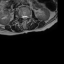CCS_stenosis: (24, 13, 25, 21)
LFS_normal: (27, 13, 29, 20)
LLS_normal: (25, 13, 27, 20)
RFS_stenosis: (20, 14, 22, 19)
RLS_normal: (22, 14, 24, 20)
